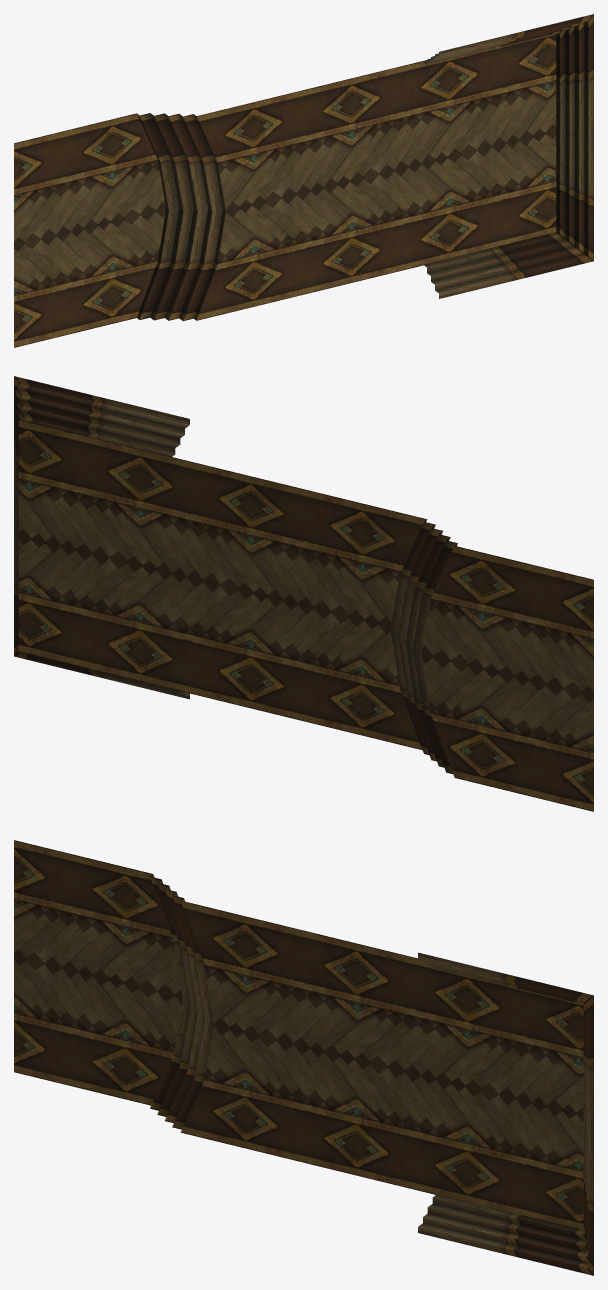
Rendered from huodong_jingsu_545_louti_01d.obj.
3 renders of one model, top to bottom at view 1: azimuth 30°, elevation 25°; view 2: azimuth 150°, elevation 25°; view 3: azimuth 330°, elevation 25°, orthographic. The views are drawn at different scales.
Parts seen in each view (by area): view 1: huodong_jingsu_545_louti_01; view 2: huodong_jingsu_545_louti_01; view 3: huodong_jingsu_545_louti_01.
Boxes of the visible parts, left/top/right/bottom form: huodong_jingsu_545_louti_01: left=14, top=14, right=593, bottom=347; huodong_jingsu_545_louti_01: left=14, top=376, right=593, bottom=811; huodong_jingsu_545_louti_01: left=14, top=840, right=593, bottom=1275.
Bounding box in the file's own units: 1351 × 585 × 147.
2 materials, 2 textured.
